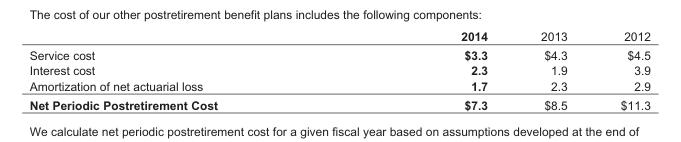table: (28, 29, 649, 111)
table column: (28, 29, 338, 111), (338, 29, 513, 111), (513, 29, 593, 111), (593, 29, 649, 111)
table column header: (28, 29, 649, 45)
table row: (28, 45, 649, 62), (28, 77, 649, 94), (28, 94, 649, 111), (28, 29, 649, 45), (28, 62, 649, 77)
